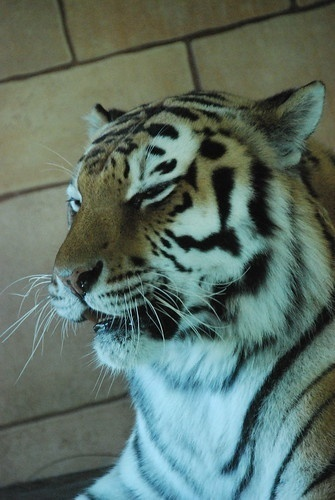tigre: (25, 81, 334, 500)
